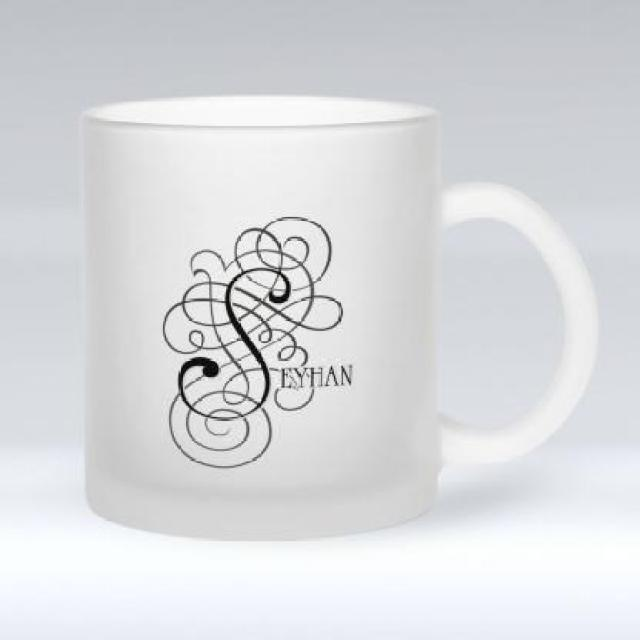taza: (74, 91, 600, 542)
